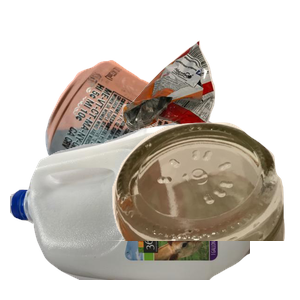glass: (89, 120, 300, 300)
metal: (43, 58, 283, 238)
plastic: (10, 120, 250, 300)
trash: (120, 38, 300, 164)
